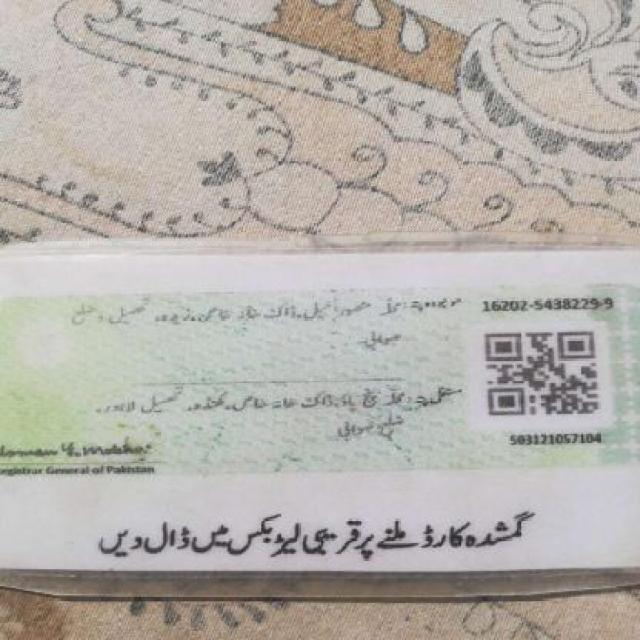Back: (3, 263, 640, 586)
